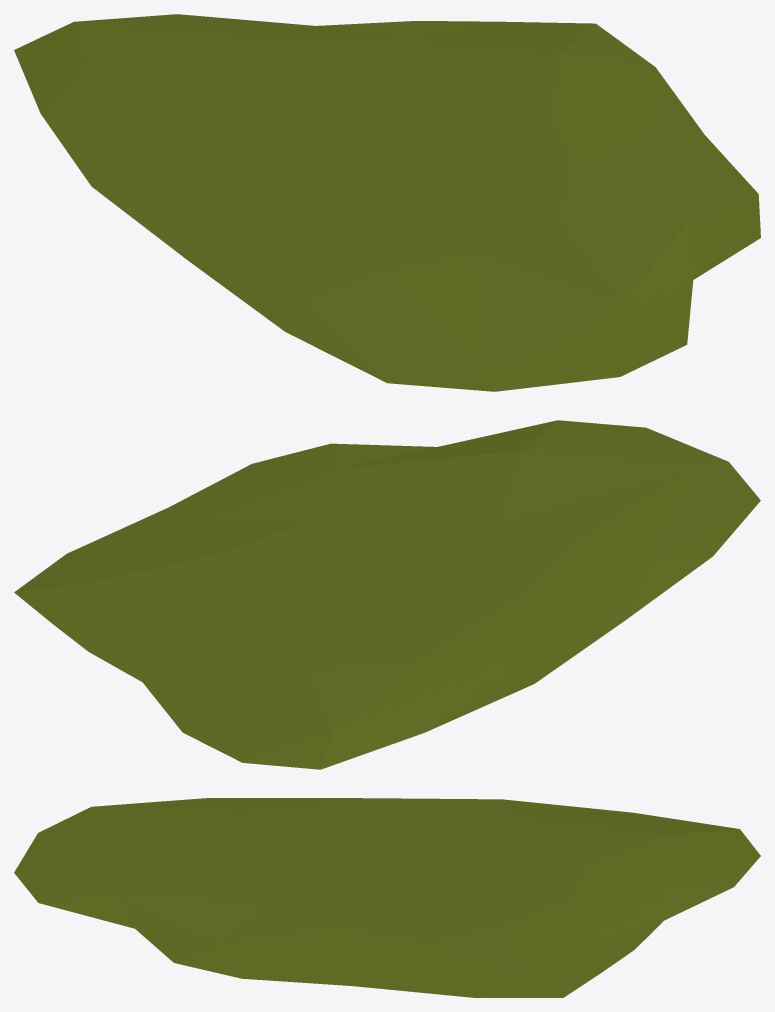
File: swamp_sludge.fbx
The picture shows the model from 3 angles, top to bottom: view 1: azimuth 30°, elevation 25°; view 2: azimuth 150°, elevation 25°; view 3: azimuth 270°, elevation 25°; orthographic projection. The views are drawn at different scales.
Visible parts, largest first — view 1: Icosphere; view 2: Icosphere; view 3: Icosphere.
Part boxes in pixels (<box>): Icosphere: <box>14,14,760,391</box>; Icosphere: <box>14,420,760,769</box>; Icosphere: <box>14,798,760,997</box>.
Size of the model in its own units: 3.6 by 0.0486 by 5.68.
